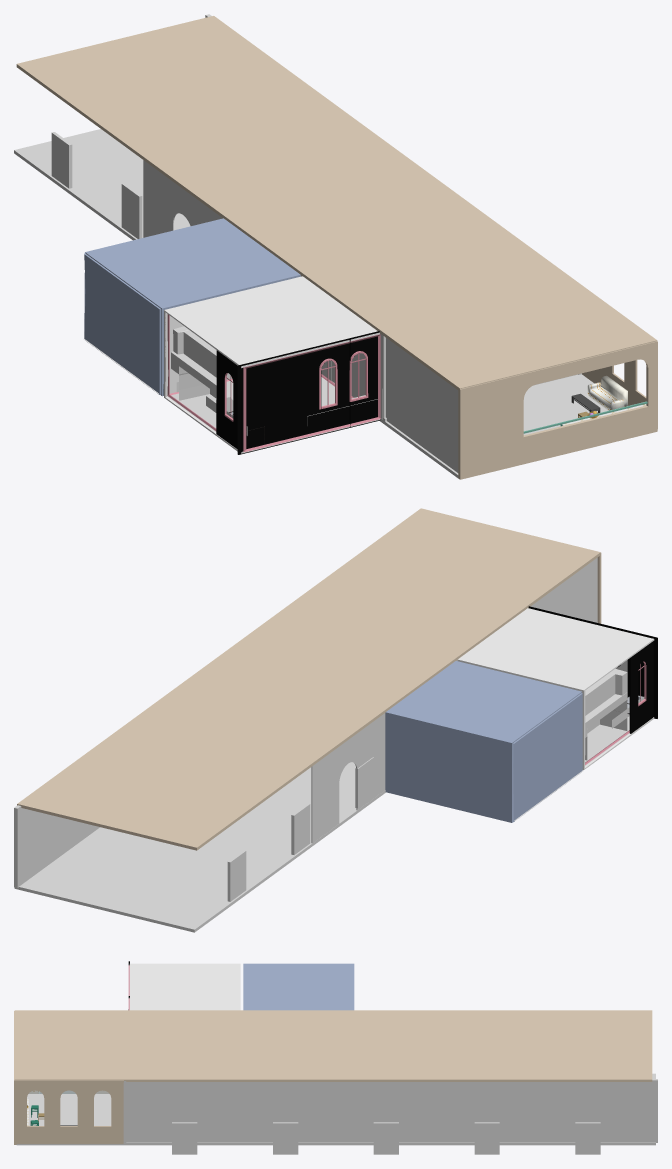
The model's file is IceCreamExhibit.fbx.
3 views of the same model, one above another, from view 1: azimuth 30°, elevation 25°; view 2: azimuth 150°, elevation 25°; view 3: azimuth 270°, elevation 25° (orthographic). The views are drawn at different scales.
Parts seen in each view (by area): view 1: CeilingLobby, Walls, WallLobby4, Walls.001, Window line.001, Floor_Lobby, WallLobby1, Circle, Counter, dorrs, WindowSill.002, Wireframe (+3 smaller); view 2: CeilingLobby, Walls, Floor_Lobby, Walls.001, Circle, WallLobby3, dorrs, Counter, WallLobby1, WindowSill.002, Window line.001, Flooring; view 3: CeilingLobby, WallLobby3, Walls, Walls.001, WindowLobby, doors, Floor_Lobby.
Part boxes in pixels (<box>): CeilingLobby: <box>16,16,657,389</box>; Walls: <box>84,218,300,396</box>; WallLobby4: <box>458,341,657,479</box>; Walls.001: <box>164,276,379,453</box>; Window line.001: <box>237,331,380,454</box>; Floor_Lobby: <box>14,129,607,478</box>; WallLobby1: <box>386,338,458,472</box>; Circle: <box>143,160,382,418</box>; Counter: <box>171,326,233,412</box>; dorrs: <box>51,132,334,382</box>; WindowSill.002: <box>216,350,242,452</box>; Wireframe: <box>167,314,380,452</box>; CeilingLobby: <box>17,508,600,850</box>; Walls: <box>385,661,582,822</box>; Floor_Lobby: <box>14,762,385,932</box>; Walls.001: <box>457,608,654,770</box>; Circle: <box>311,660,457,843</box>; WallLobby3: <box>14,805,99,888</box>; dorrs: <box>227,757,373,901</box>; Counter: <box>585,660,627,760</box>; WallLobby1: <box>531,557,597,622</box>; WindowSill.002: <box>629,641,653,733</box>; Window line.001: <box>528,606,657,718</box>; Flooring: <box>585,716,629,765</box>; CeilingLobby: <box>14,1010,652,1081</box>; WallLobby3: <box>123,1079,657,1142</box>; Walls: <box>243,963,354,1010</box>; Walls.001: <box>129,963,240,1010</box>; WindowLobby: <box>14,1080,123,1143</box>; doors: <box>172,1122,600,1154</box>; Floor_Lobby: <box>16,1073,655,1145</box>.
Bounding box in the file's own units: 4879 × 1215 × 10018.
26 materials, 9 textured.
